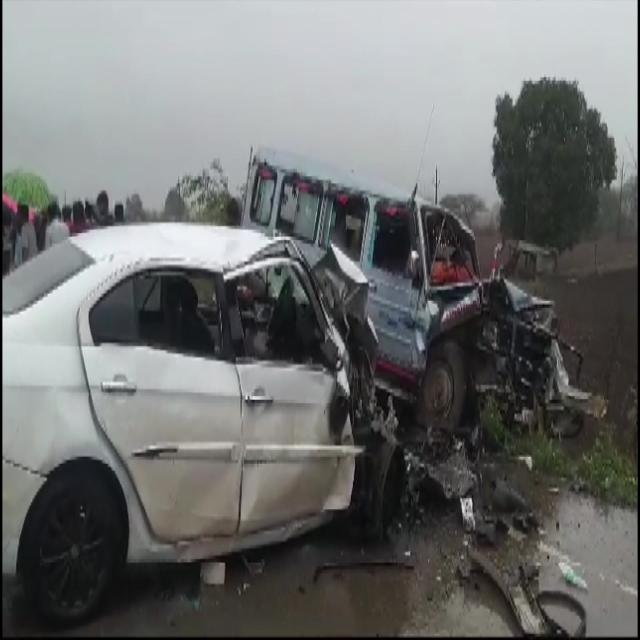crush: (141, 224, 406, 562), (408, 200, 605, 420)
